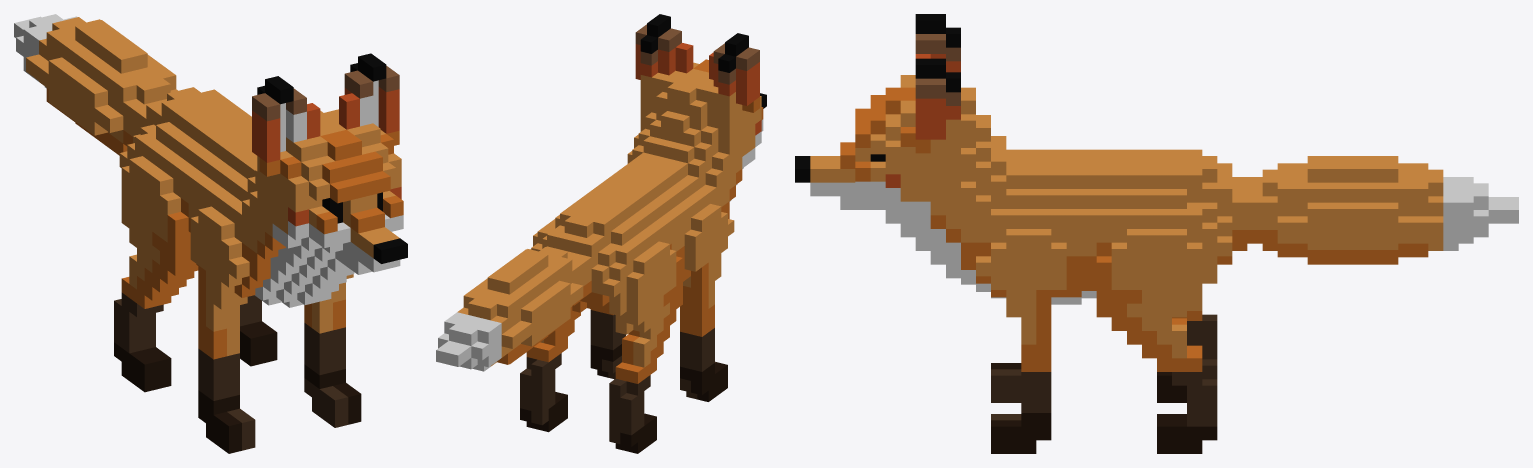
Rendered from Fox.fbx.
3 views of the same model, side by side, from view 1: azimuth 30°, elevation 25°; view 2: azimuth 150°, elevation 25°; view 3: azimuth 270°, elevation 25° (orthographic). The views are drawn at different scales.
Visible parts, largest first — view 1: Fox; view 2: Fox; view 3: Fox.
Boxes of the visible parts, bbox=[...] form: Fox: bbox=[14, 14, 407, 453]; Fox: bbox=[436, 14, 766, 453]; Fox: bbox=[795, 14, 1518, 453].
Bounding box in the file's own units: 100 × 280 × 480.
